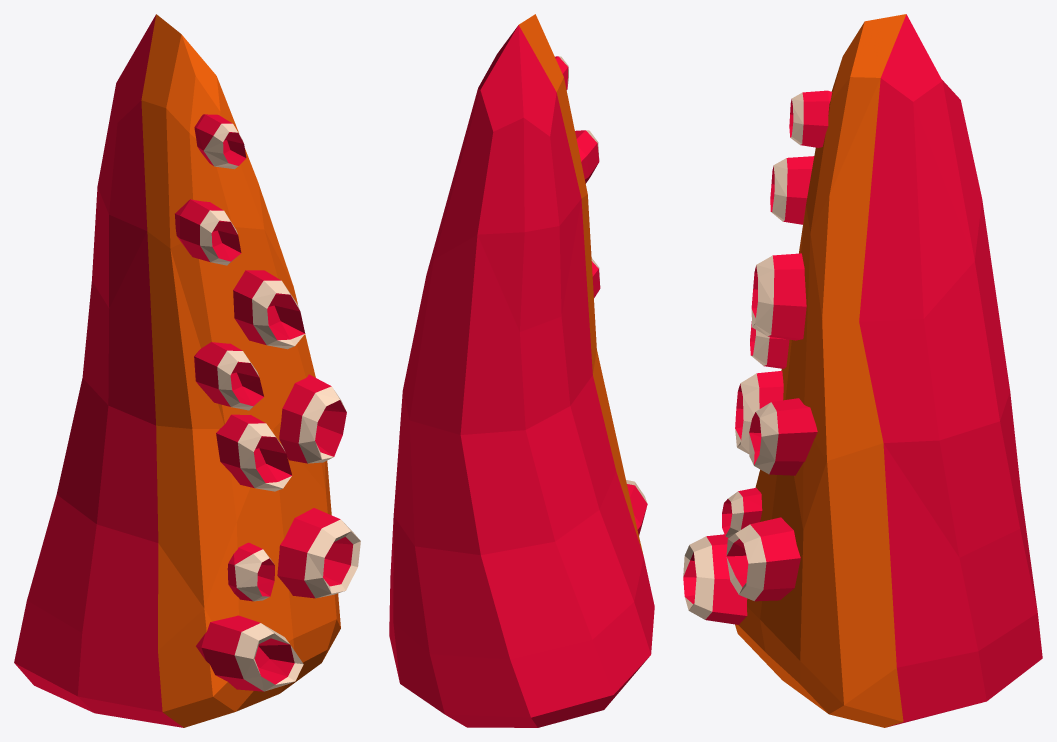
File: Ingredient_octopus_arm_1.fbx
The picture shows the model from 3 angles, left to right: view 1: azimuth 30°, elevation 25°; view 2: azimuth 150°, elevation 25°; view 3: azimuth 270°, elevation 25°; orthographic projection.
Parts seen in each view (by area): view 1: Jar_Octopus.002; view 2: Jar_Octopus.002; view 3: Jar_Octopus.002.
Part boxes in pixels (left/top/right/bottom): Jar_Octopus.002: left=14, top=14, right=360, bottom=727; Jar_Octopus.002: left=389, top=14, right=654, bottom=727; Jar_Octopus.002: left=683, top=14, right=1042, bottom=727.
Bounding box in the file's own units: 17.64 × 42.1 × 20.5.
